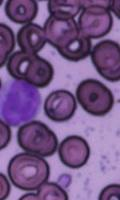M: (2, 78, 42, 127)
